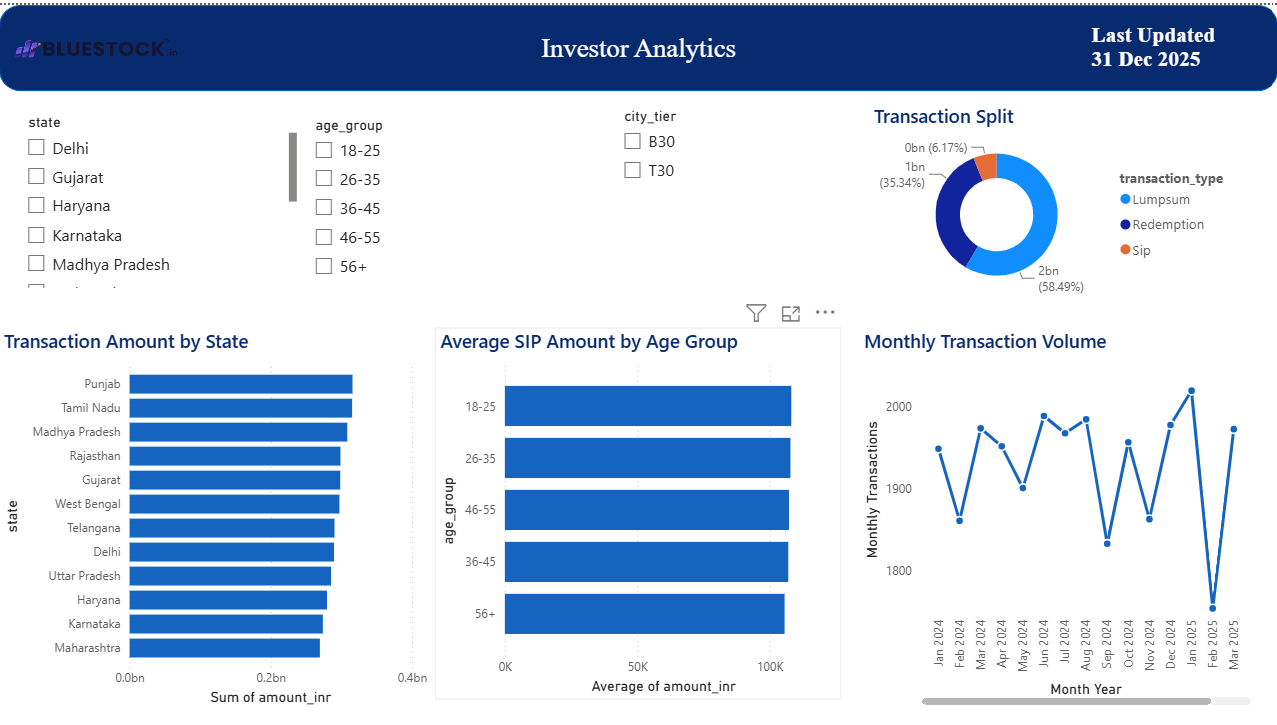

Layout of this report page (visuals, bound fields, positions):
{"tool":"powerbi","page":{"name":" Investor Analytics","canvas":[1280,720],"ordinal":2},"visuals":[{"type":"shape","box":[0,0,1280.3,86.2],"z":0},{"type":"image","box":[0,0,180.4,86.2],"z":1000},{"type":"textbox","box":[506.2,17.5,266.6,51.2],"z":2000},{"type":"textbox","box":[16.2,297.5,189.8,49.8],"z":3000},{"type":"textbox","box":[1087.8,12.1,150.8,61.9],"z":4000},{"type":"slicer","fields":{"Values":["clean_investor_transactions.state"]},"box":[16.8,103.4,286.5,184.5],"z":5000},{"type":"slicer","fields":{"Values":["clean_investor_transactions.age_group"]},"box":[303.2,106.2,296.2,178.9],"z":6000},{"type":"slicer","fields":{"Values":["clean_investor_transactions.city_tier"]},"box":[612.1,97.8,219.4,184.5],"z":7000},{"type":"clusteredBarChart","title":"Transaction Amount by State","fields":{"Category":["clean_investor_transactions.state"],"Y":["Sum(clean_investor_transactions.amount_inr)"]},"box":[0,322.8,433.2,382.9],"z":8000},{"type":"donutChart","title":"Transaction Split","fields":{"Category":["clean_investor_transactions.transaction_type"],"Y":["Sum(clean_investor_transactions.amount_inr)"]},"box":[870.6,97.8,374.5,199.8],"z":9000},{"type":"clusteredBarChart","title":"Average SIP Amount by Age Group","fields":{"Category":["clean_investor_transactions.age_group"],"Y":["Avg(clean_investor_transactions.amount_inr)"]},"box":[436,322.8,406.6,371.7],"z":10000},{"type":"lineChart","title":"Monthly Transaction Volume","fields":{"Y":["clean_investor_transactions.Monthly Transactions"],"Category":["Calendar.Month Year"]},"box":[859.4,322.8,396.9,382.9],"z":11000}]}

Visuals, with their boxes in screenshot pixels (x1, y1, x2, y2), scaled from the page's 1280x720 canvas onto the 1277x725 screenshot:
shape: BBox(0, 0, 1276, 87)
image: BBox(0, 0, 180, 87)
textbox: BBox(505, 18, 771, 69)
textbox: BBox(16, 300, 206, 350)
textbox: BBox(1085, 12, 1236, 75)
slicer - clean_investor_transactions.state: BBox(17, 104, 303, 290)
slicer - clean_investor_transactions.age_group: BBox(302, 107, 598, 287)
slicer - clean_investor_transactions.city_tier: BBox(611, 98, 830, 284)
"Transaction Amount by State" clusteredBarChart: BBox(0, 325, 432, 711)
"Transaction Split" donutChart: BBox(869, 98, 1242, 300)
"Average SIP Amount by Age Group" clusteredBarChart: BBox(435, 325, 841, 699)
"Monthly Transaction Volume" lineChart: BBox(857, 325, 1253, 711)
